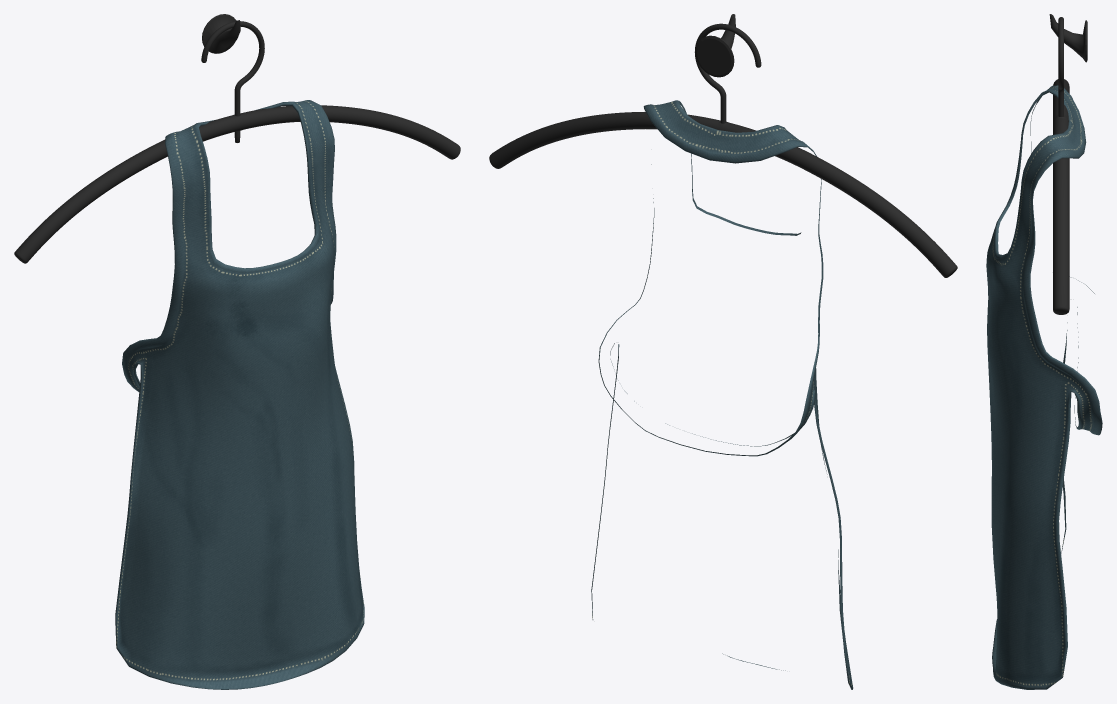
Rendered from apron.gltf.
3 views of the same model, side by side, from view 1: azimuth 30°, elevation 25°; view 2: azimuth 150°, elevation 25°; view 3: azimuth 270°, elevation 25° (orthographic). The views are drawn at different scales.
Parts seen in each view (by area): view 1: apron_myfree3d_com_, DTEC_Peng; view 2: DTEC_Peng, apron_myfree3d_com_; view 3: apron_myfree3d_com_, DTEC_Peng.
Part boxes in pixels (x1,y1,x2,y2): apron_myfree3d_com_: (115, 100, 364, 689); DTEC_Peng: (14, 14, 460, 263); DTEC_Peng: (489, 14, 957, 277); apron_myfree3d_com_: (591, 100, 853, 689); apron_myfree3d_com_: (986, 85, 1102, 689); DTEC_Peng: (1049, 14, 1087, 314).
Bounding box in the file's own units: 0.1086 × 0.1506 × 0.0248.
2 materials, 1 textured.
